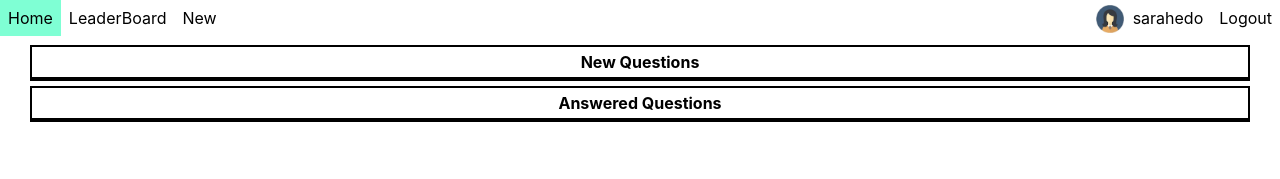
Test: login page works as expected › renders the login page when logging out
Expected: the heading "New Questions" is shown, [32,47,1248,79]
Click the link "Logout": [1246, 18] box [1219,8,1272,28]
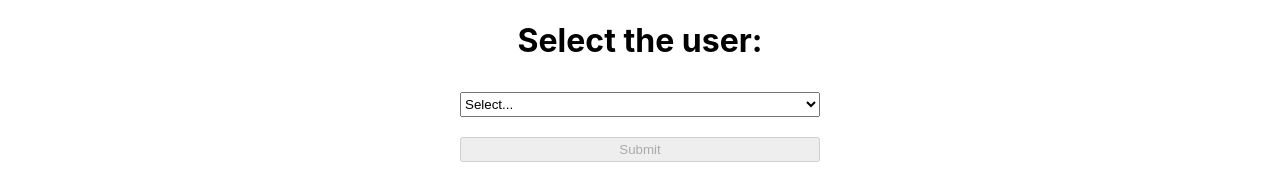
Result: the dropdown with test id "selectUser" is shown at [460,92,820,117]
